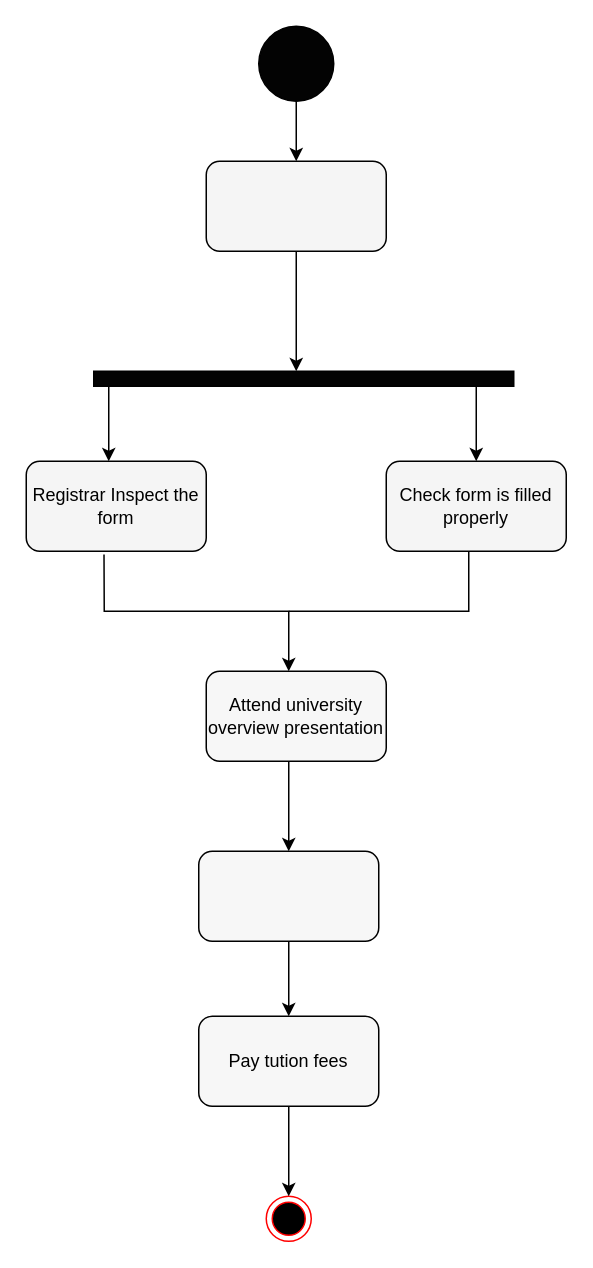
The diagram is 593 pixels wide and 1268 high, and some of its shapes have lost their labels. Each missing label, with the centre of its shape:
"Fill Enrolment form" goes at point 295,205.
"Help student to enroll in seminar" goes at point 288,895.
